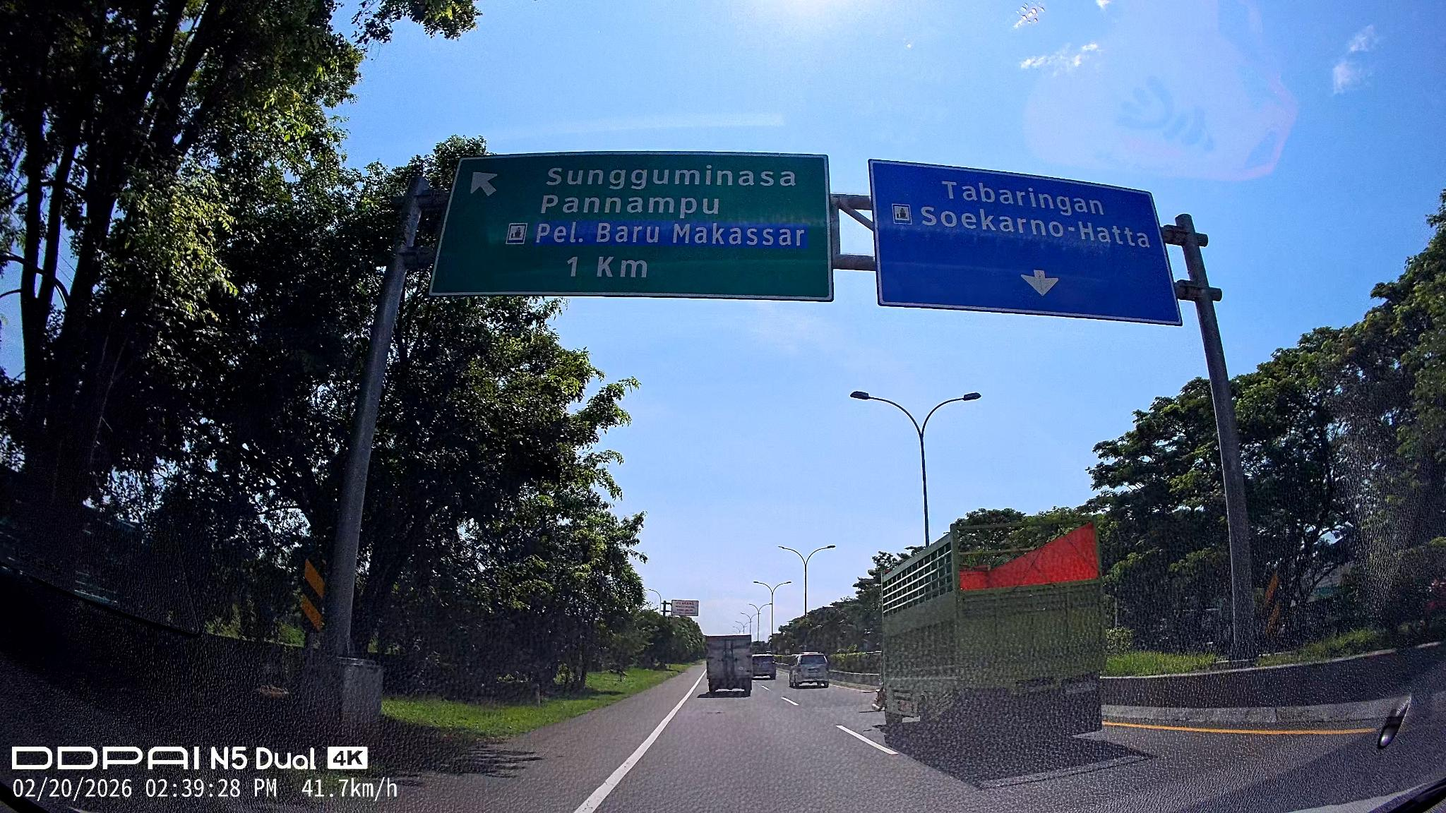rambu_teks: (426, 149, 835, 304), (867, 154, 1185, 327)
